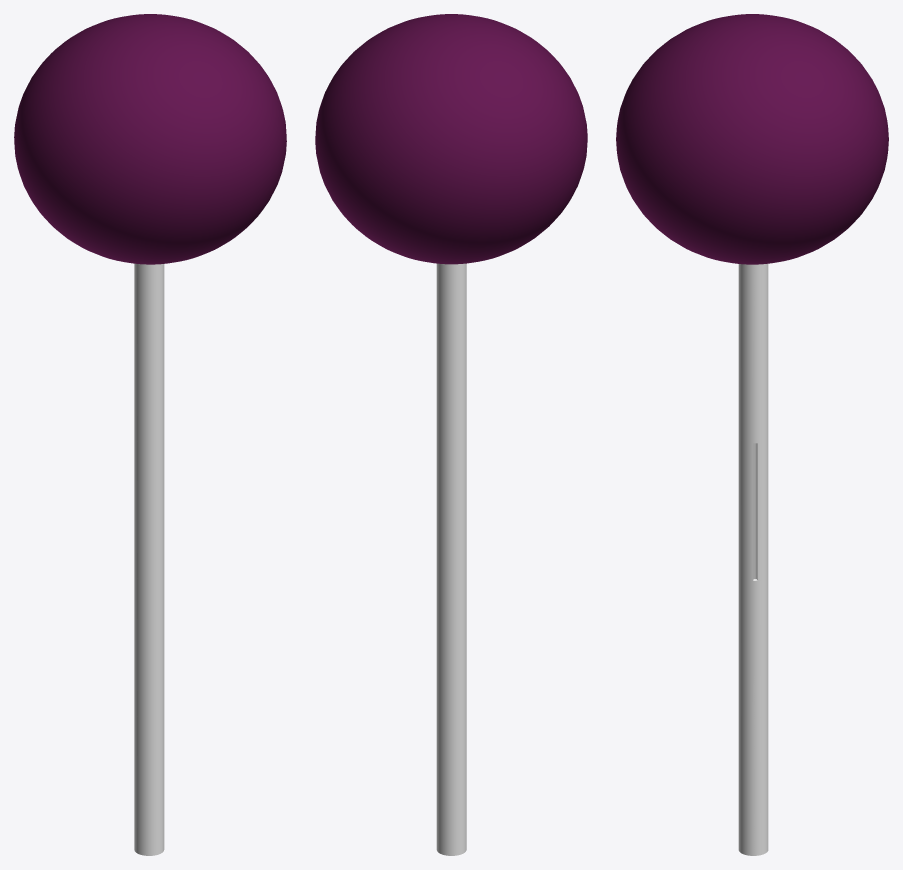
File: lolipop.FBX
3 views of the same model, side by side, from view 1: azimuth 30°, elevation 25°; view 2: azimuth 150°, elevation 25°; view 3: azimuth 270°, elevation 25° (orthographic).
Parts seen in each view (by area): view 1: Sphere007, Cylinder008; view 2: Sphere007, Cylinder008; view 3: Sphere007, Cylinder008.
Boxes of the visible parts, x1,y1,x2,y2 form: Sphere007: (14,14,286,264); Cylinder008: (134,263,164,855); Sphere007: (315,14,587,264); Cylinder008: (436,263,466,855); Sphere007: (616,14,888,264); Cylinder008: (738,263,768,855).
Size of the model in its own units: 2.02 by 6.71 by 2.02.
